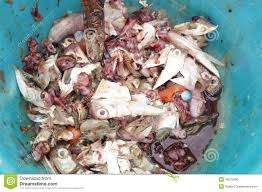kitchen_waste: (87, 78, 165, 124), (12, 67, 60, 108), (152, 44, 187, 90), (173, 11, 221, 41), (47, 141, 81, 175), (82, 24, 104, 61), (63, 40, 88, 70)
